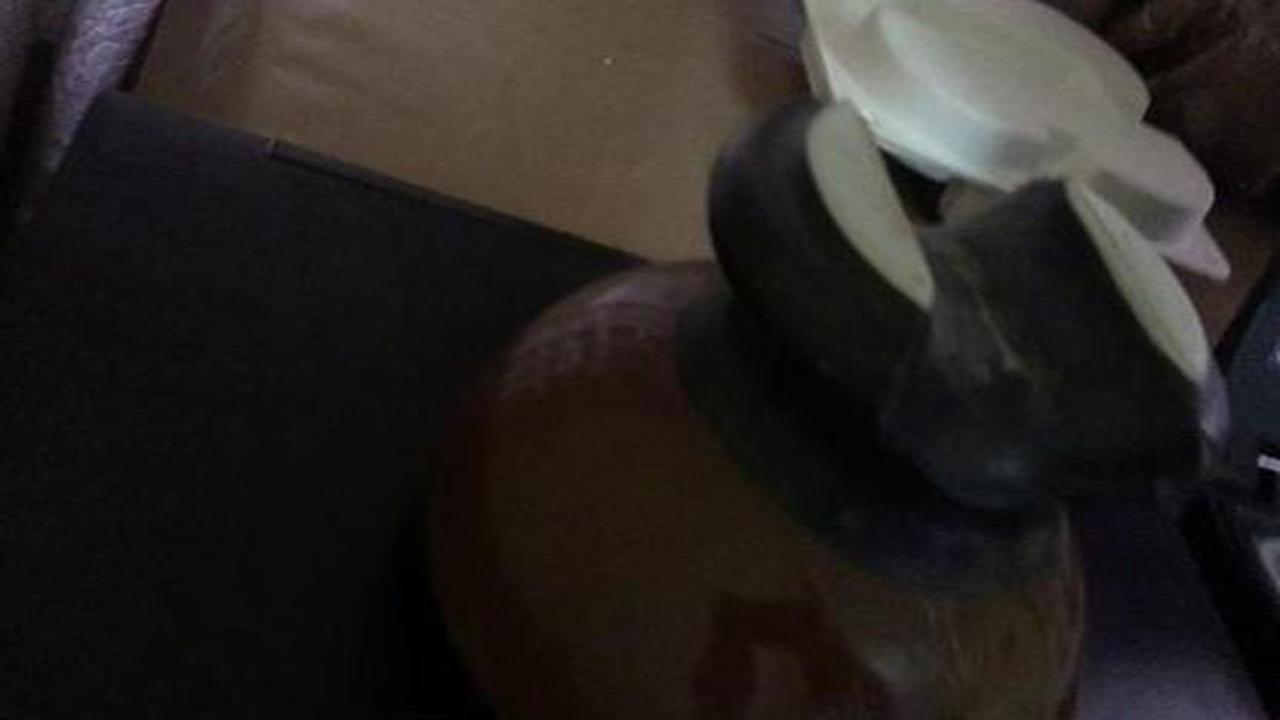insulator_pin: (394, 84, 1244, 720)
